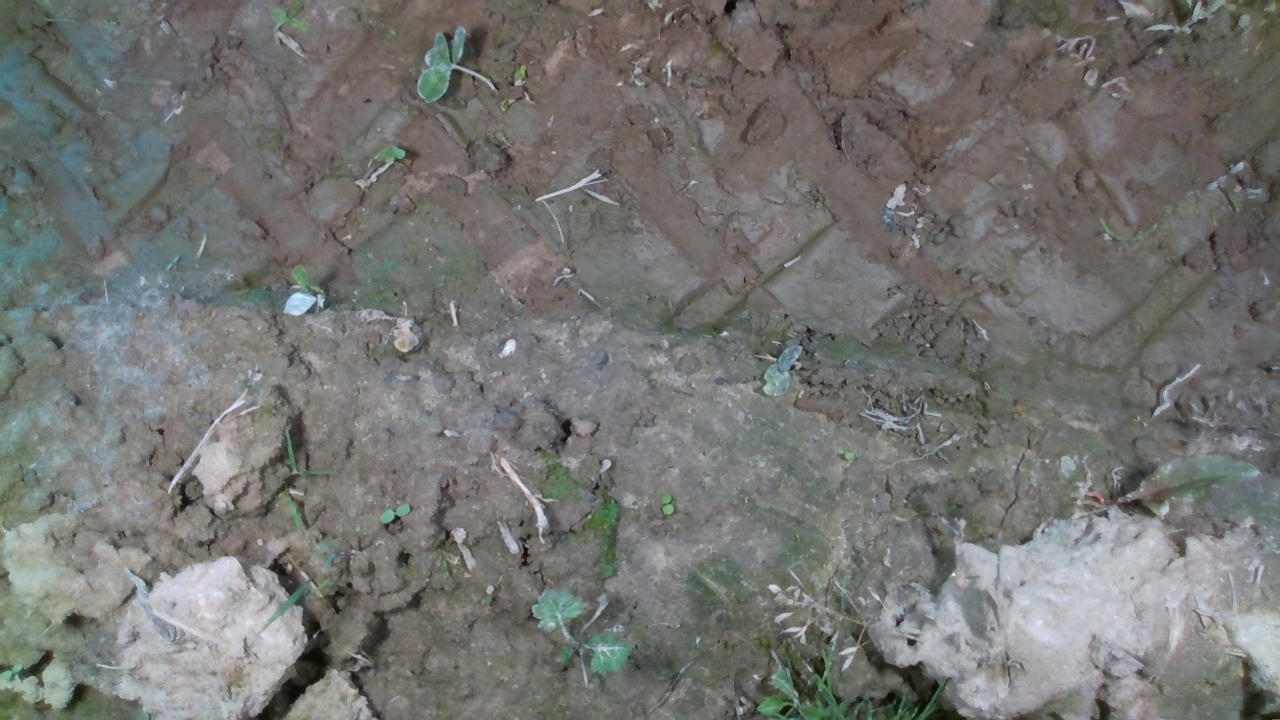weed: (378, 502, 412, 524), (661, 490, 675, 516)
